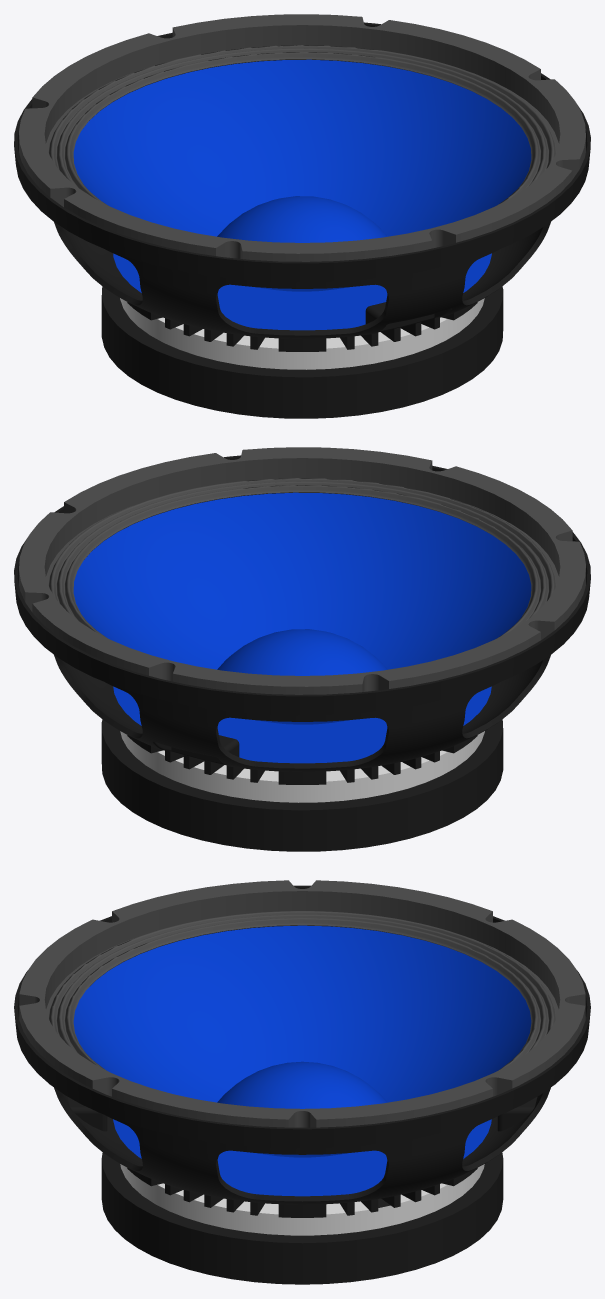
The picture shows the model from 3 angles, top to bottom: view 1: azimuth 30°, elevation 25°; view 2: azimuth 150°, elevation 25°; view 3: azimuth 270°, elevation 25°; orthographic projection.
Visible parts, largest first — view 1: ES 12LW1400; view 2: ES 12LW1400; view 3: ES 12LW1400.
Part boxes in pixels (x1,y1,x2,y2): ES 12LW1400: (14,14,590,418); ES 12LW1400: (14,447,590,851); ES 12LW1400: (14,880,590,1284).
Bounding box in the file's own units: 0.315 × 0.1389 × 0.315.
